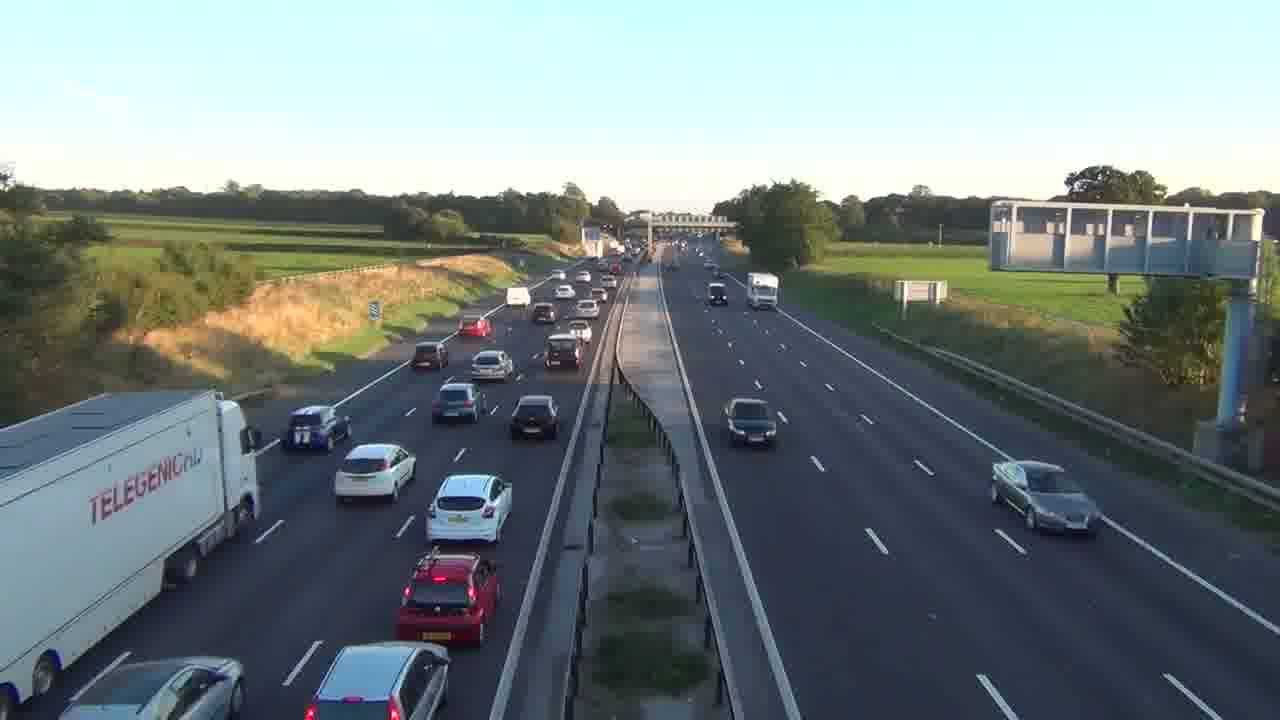car: (303, 640, 452, 719), (393, 552, 501, 647), (990, 459, 1101, 536), (135, 656, 246, 719), (423, 472, 513, 545), (332, 442, 417, 504), (722, 397, 779, 448), (509, 393, 560, 440), (432, 380, 481, 424), (470, 349, 516, 382)
truck: (1, 389, 260, 708), (746, 272, 780, 310), (506, 286, 531, 309)
